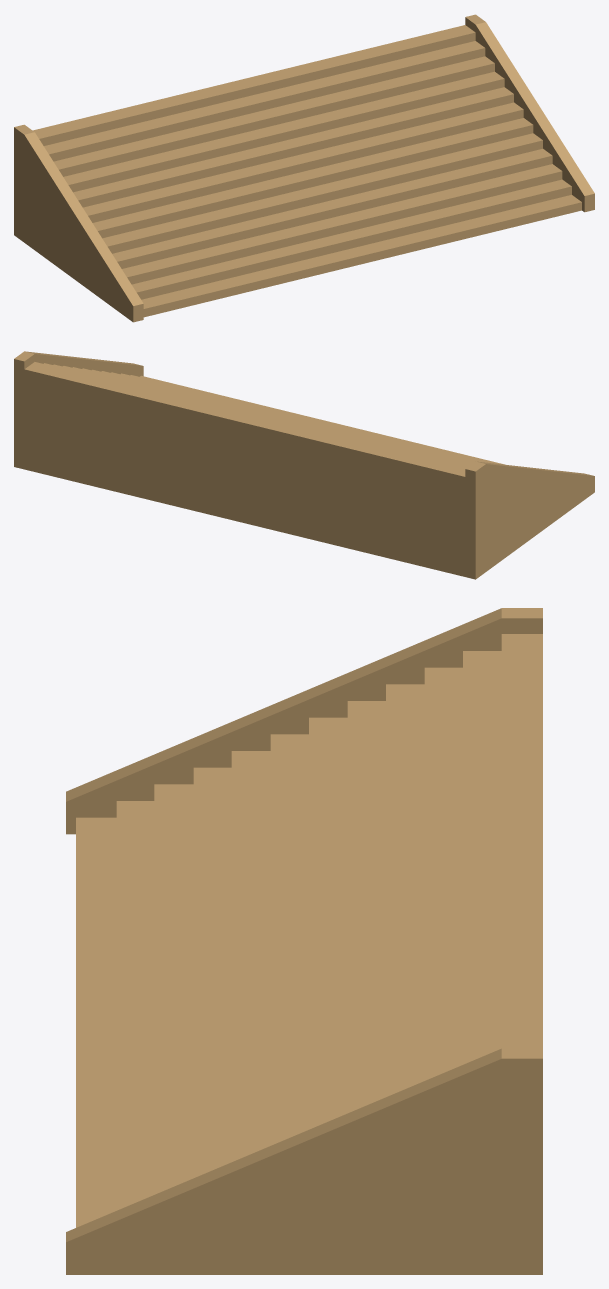
File: StairsWide.fbx
The picture shows the model from 3 angles, top to bottom: view 1: azimuth 30°, elevation 25°; view 2: azimuth 150°, elevation 25°; view 3: azimuth 270°, elevation 25°; orthographic projection. The views are drawn at different scales.
Visible parts, largest first — view 1: stairsWide; view 2: stairsWide; view 3: stairsWide.
Part boxes in pixels (x1,y1,x2,y2): stairsWide: [14, 14, 594, 322]; stairsWide: [14, 351, 594, 579]; stairsWide: [66, 608, 542, 1274].
Bounding box in the file's own units: 965 × 216 × 432.
